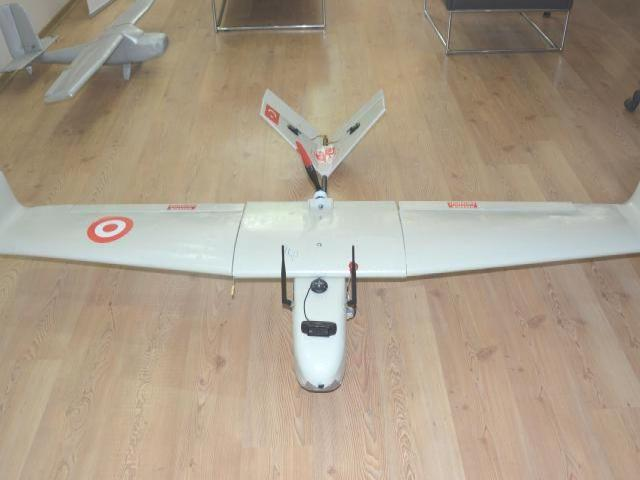iha: (0, 82, 639, 390)
